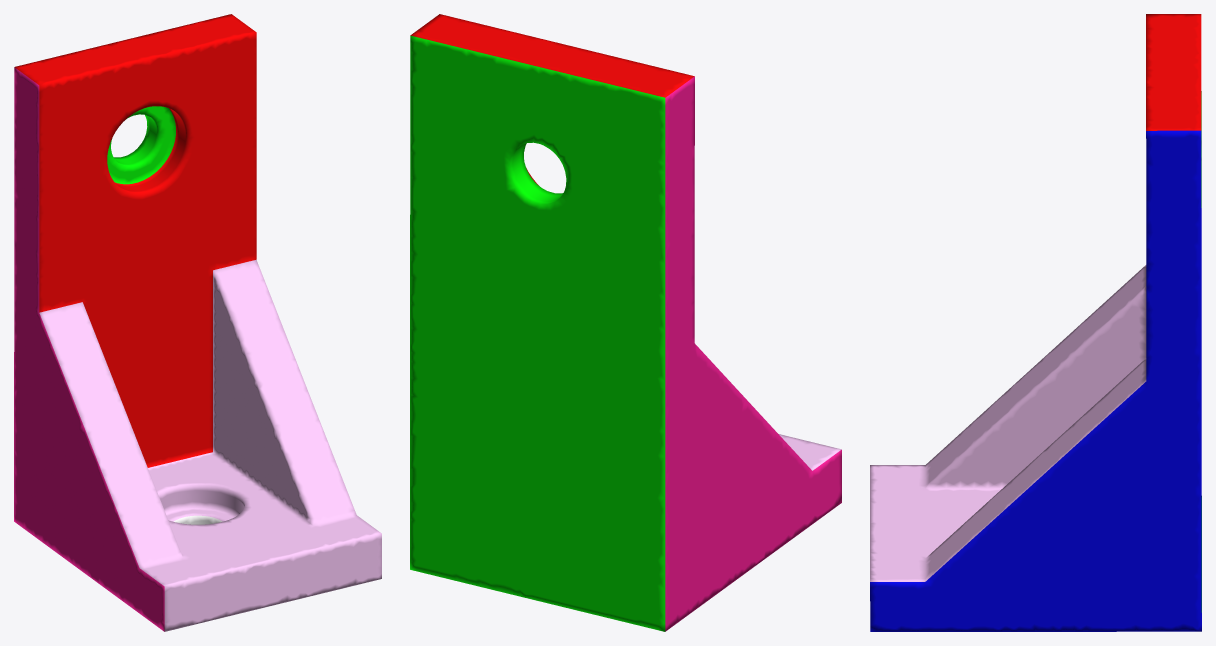
The model's file is model_31771_segmented.obj.
3 views of the same model, side by side, from view 1: azimuth 30°, elevation 25°; view 2: azimuth 150°, elevation 25°; view 3: azimuth 270°, elevation 25° (orthographic). The views are drawn at different scales.
Size of the model in its own units: 20 by 40.02 by 24.
